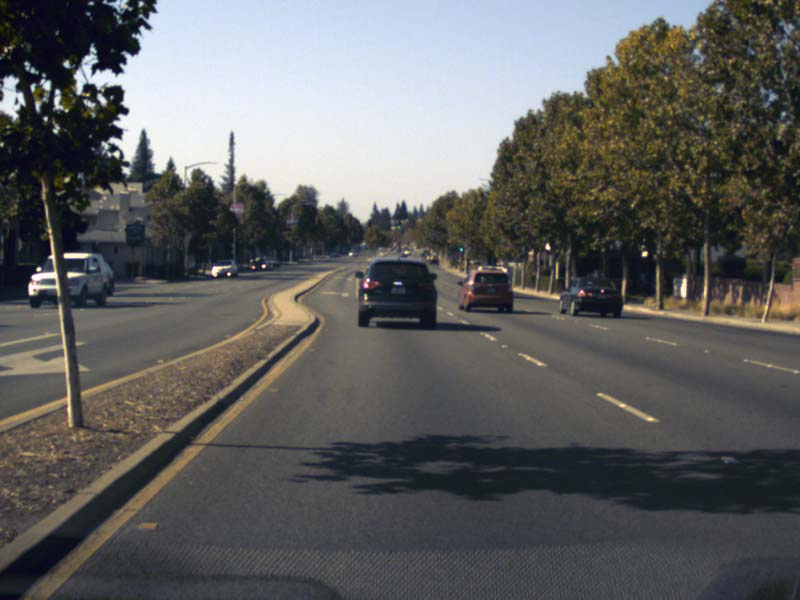Green: (459, 245, 464, 256), (396, 221, 401, 230)
